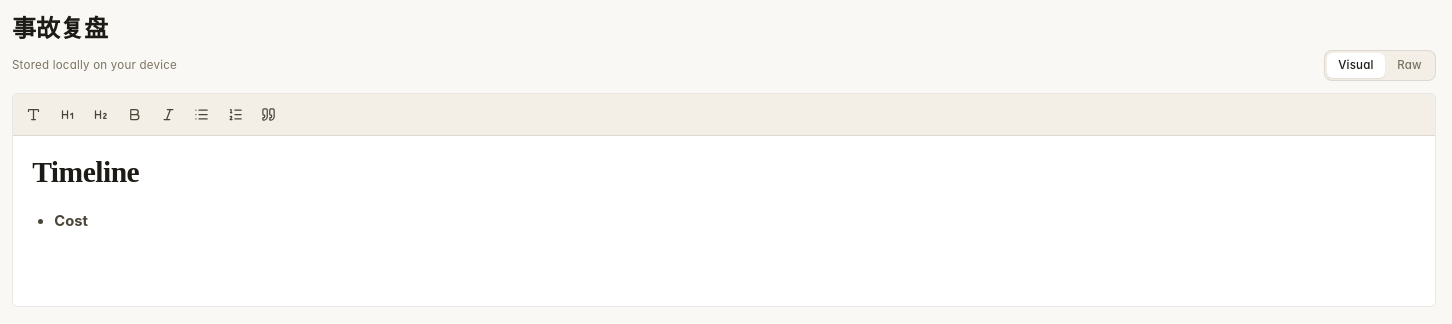
Scenario: NoteEditor › opens notes in visual mode and can switch to raw markdown
Expected: the heading "Timeline" is shown, [32,156,139,188]
Expected: the field named "Visual markdown editor" is shown, [13,136,1435,306]
Step 1. Click the tab "Raw" → (1410, 65), box [1386,53,1433,78]
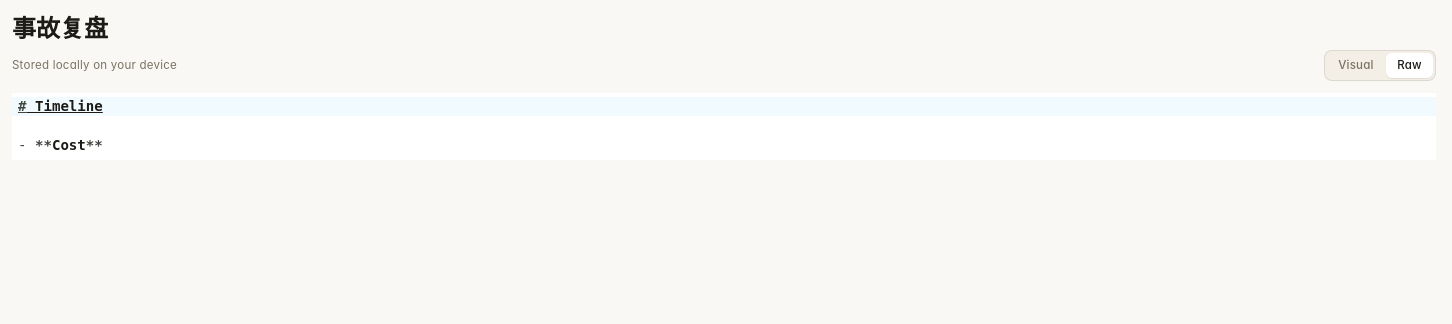
Expected: the field with class "cm-content" shows "# Timeline", [12,93,1436,160]
